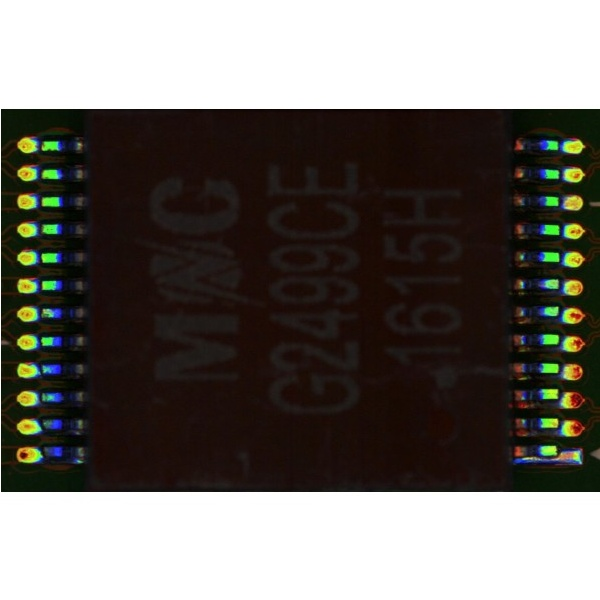Bad_qiaojiao: (513, 456, 558, 461)
